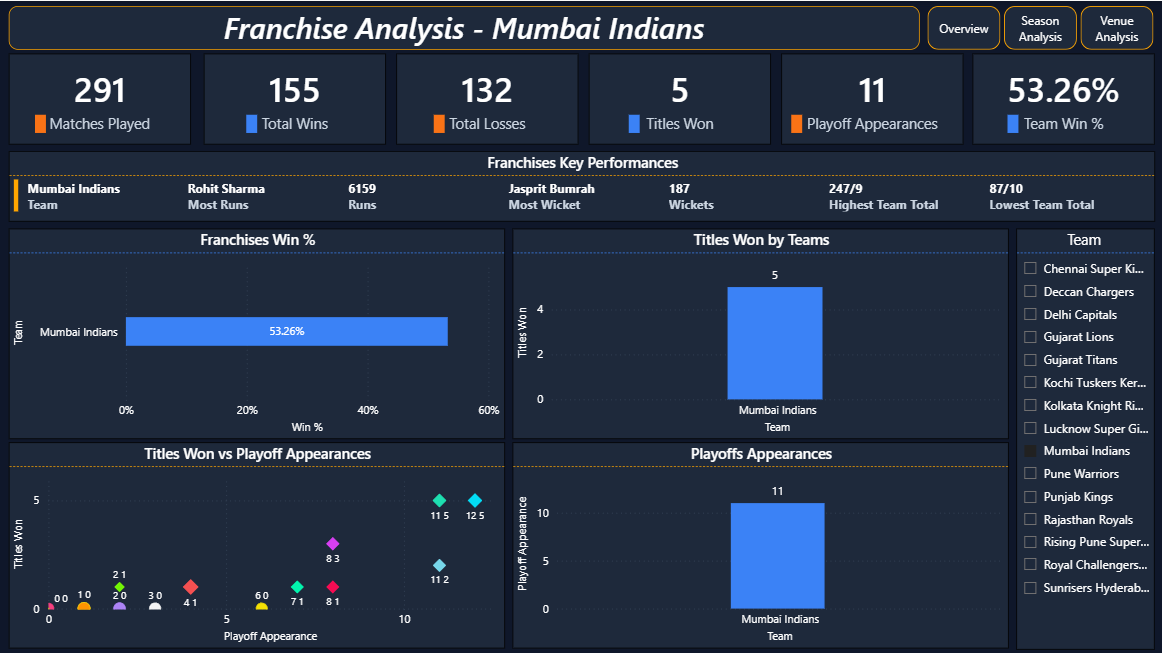

What the dashboard file says about the page in this screenshot:
{"tool":"powerbi","page":{"name":"Franchise Analysis","canvas":[1280,720],"ordinal":3},"visuals":[{"type":"barChart","title":"Franchises Win %","fields":{"Category":["dim_franchise.franchise_name"],"Y":["ipl_data.Win %"]},"box":[9.6,250,545,231],"z":0},{"type":"columnChart","title":"Titles Won by Teams","fields":{"Category":["dim_franchise.franchise_name"],"Y":["Sum(dim_franchise.titles)"]},"box":[562.6,250,545,231],"z":1000},{"type":"columnChart","title":"Playoffs Appearances","fields":{"Category":["dim_franchise.franchise_name"],"Y":["Sum(dim_franchise.playoff_appearance)"]},"box":[562.6,485,544.8,226],"z":2000},{"type":"multiRowCard","title":"Franchises Key Performances","fields":{"Values":["franchise_key_metrics.team","franchise_key_metrics.Top_scorer","Sum(franchise_key_metrics.runs)","franchise_key_metrics.Top_wicket-taker","Sum(franchise_key_metrics.wickets)","franchise_key_metrics.highest_team_total","franchise_key_metrics.lowest_team_total"]},"box":[9.7,165.3,1258.3,77.2],"z":3000},{"type":"card","fields":{"Values":["Sum(dim_franchise.matches_played)"]},"box":[10,58,200.3,100.2],"z":4000},{"type":"card","fields":{"Values":["Sum(dim_franchise.win)"]},"box":[224,58,200.3,100.2],"z":5000},{"type":"card","fields":{"Values":["Sum(dim_franchise.lost)"]},"box":[435,58,200.3,100.2],"z":6000},{"type":"card","fields":{"Values":["Sum(dim_franchise.titles)"]},"box":[646,58,200.3,100.2],"z":7000},{"type":"card","fields":{"Values":["Sum(dim_franchise.playoff_appearance)"]},"box":[858,58,200.3,100.2],"z":8000},{"type":"card","fields":{"Values":["dim_franchise.Team Win %"]},"box":[1067.6,58,200.3,100.2],"z":9000},{"type":"slicer","title":"Team","fields":{"Values":["dim_franchise.franchise_name"]},"box":[1115.6,250,152.3,462],"z":10000},{"type":"card","fields":{"Values":["dim_franchise.Franchise Title"]},"box":[10,5,1000,48],"z":11000},{"type":"scatterChart","title":"Titles Won vs Playoff Appearances","fields":{"Size":["dim_franchise.Team Win %"],"X":["dim_franchise.playoff_appearance"],"Y":["dim_franchise.titles"],"Series":["dim_franchise.franchise_name"]},"box":[9.6,485,544.8,226],"z":12000},{"type":"shape","box":[38,125,12.1,20],"z":13000},{"type":"shape","box":[270,125,12.1,20],"z":14000},{"type":"shape","box":[476,125,12.1,20],"z":15000},{"type":"shape","box":[690,125,12.1,20],"z":16000},{"type":"shape","box":[868,125,12.1,20],"z":17000},{"type":"shape","box":[1106,125,12.1,20],"z":18000},{"type":"pageNavigator","box":[1018.2,4.8,249.7,48.3],"z":19001}]}

Visuals, with their boxes in screenshot pixels (x1, y1, x2, y2), scaled from the page's 1280x720 canvas onto the 1162x653 screenshot:
"Franchises Win %" barChart: [x1=9, y1=227, x2=503, y2=436]
"Titles Won by Teams" columnChart: [x1=511, y1=227, x2=1005, y2=436]
"Playoffs Appearances" columnChart: [x1=511, y1=440, x2=1005, y2=645]
"Franchises Key Performances" multiRowCard: [x1=9, y1=150, x2=1151, y2=220]
card - Sum(dim_franchise.matches_played): [x1=9, y1=53, x2=191, y2=143]
card - Sum(dim_franchise.win): [x1=203, y1=53, x2=385, y2=143]
card - Sum(dim_franchise.lost): [x1=395, y1=53, x2=577, y2=143]
card - Sum(dim_franchise.titles): [x1=586, y1=53, x2=768, y2=143]
card - Sum(dim_franchise.playoff_appearance): [x1=779, y1=53, x2=961, y2=143]
card - dim_franchise.Team Win %: [x1=969, y1=53, x2=1151, y2=143]
"Team" slicer: [x1=1013, y1=227, x2=1151, y2=646]
card - dim_franchise.Franchise Title: [x1=9, y1=5, x2=917, y2=48]
"Titles Won vs Playoff Appearances" scatterChart: [x1=9, y1=440, x2=503, y2=645]
shape: [x1=34, y1=113, x2=45, y2=132]
shape: [x1=245, y1=113, x2=256, y2=132]
shape: [x1=432, y1=113, x2=443, y2=132]
shape: [x1=626, y1=113, x2=637, y2=132]
shape: [x1=788, y1=113, x2=799, y2=132]
shape: [x1=1004, y1=113, x2=1015, y2=132]
pageNavigator: [x1=924, y1=4, x2=1151, y2=48]
